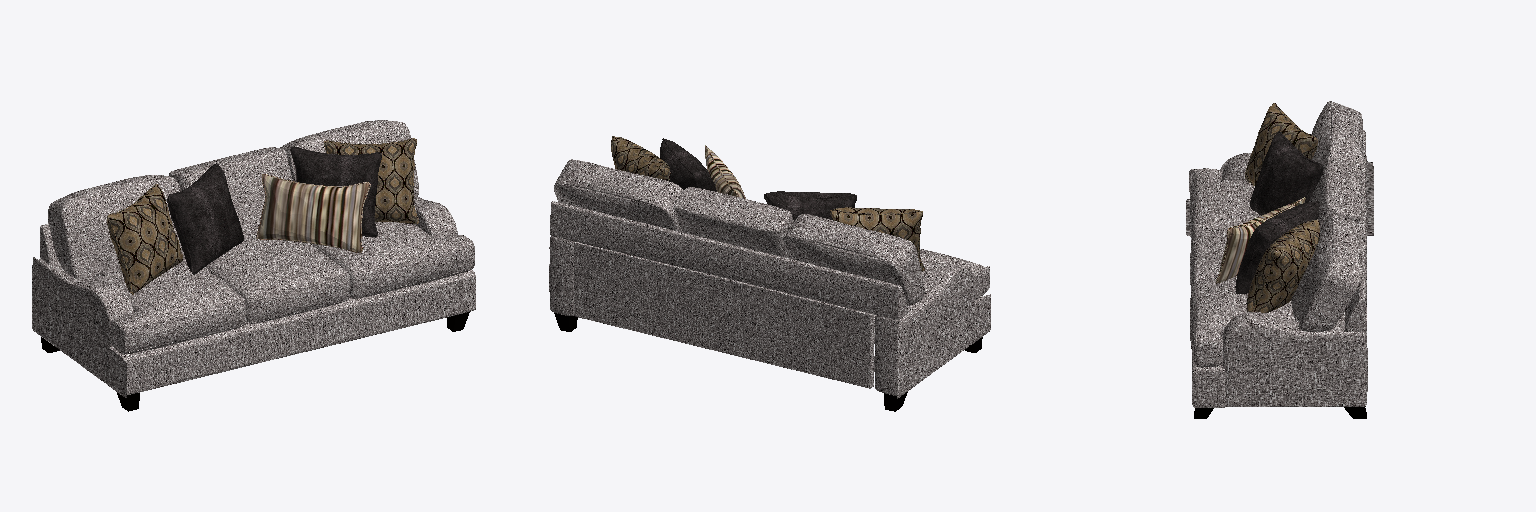
3 renders of one model, left to right at view 1: azimuth 30°, elevation 25°; view 2: azimuth 150°, elevation 25°; view 3: azimuth 270°, elevation 25°, orthographic.
Parts seen in each view (by area): view 1: not_clear_obj_5_v6, not_clear_obj_1_v6, not_clear_obj_0_v6, not_clear_obj_4_v6, not_clear_obj_3_v6; view 2: not_clear_obj_5_v6, not_clear_obj_1_v6, not_clear_obj_0_v6, not_clear_obj_4_v6, not_clear_obj_3_v6; view 3: not_clear_obj_5_v6, not_clear_obj_1_v6, not_clear_obj_0_v6, not_clear_obj_4_v6.
Part boxes in pixels (x1,y1,x2,y2): not_clear_obj_5_v6: (32, 120, 475, 397); not_clear_obj_1_v6: (107, 138, 418, 294); not_clear_obj_0_v6: (167, 146, 381, 274); not_clear_obj_4_v6: (258, 175, 368, 251); not_clear_obj_3_v6: (41, 312, 469, 411); not_clear_obj_5_v6: (549, 159, 990, 398); not_clear_obj_1_v6: (611, 136, 924, 271); not_clear_obj_0_v6: (660, 138, 856, 220); not_clear_obj_4_v6: (705, 147, 745, 198); not_clear_obj_3_v6: (554, 313, 982, 411); not_clear_obj_5_v6: (1186, 101, 1373, 407); not_clear_obj_1_v6: (1245, 103, 1319, 312); not_clear_obj_0_v6: (1235, 131, 1322, 293); not_clear_obj_4_v6: (1217, 199, 1304, 282).
Bounding box in the file's own units: 228 × 102 × 105.
7 materials, 5 textured.